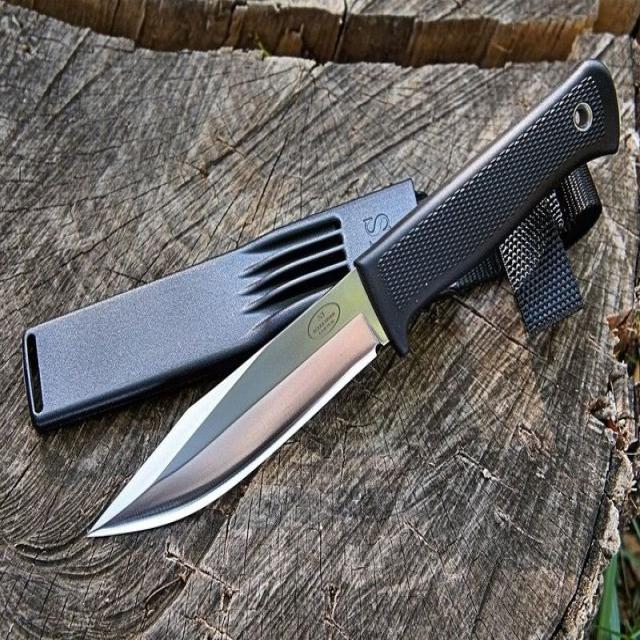knife: (85, 65, 619, 550)
